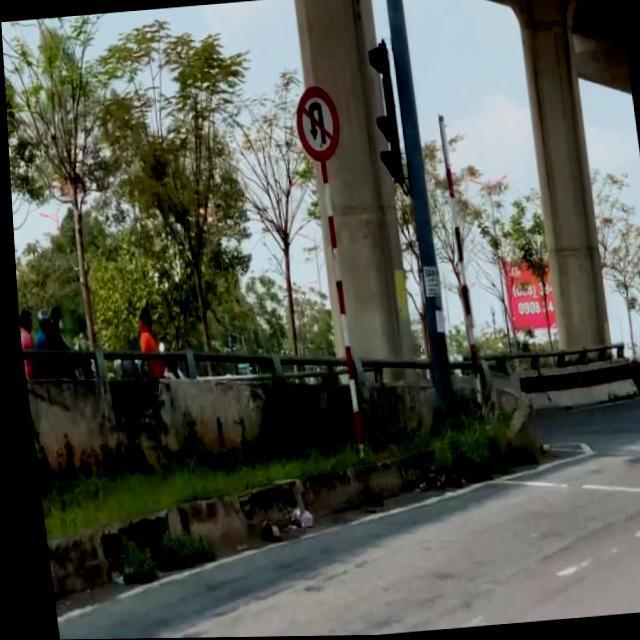Cam quay dau xe: (289, 83, 343, 166)
